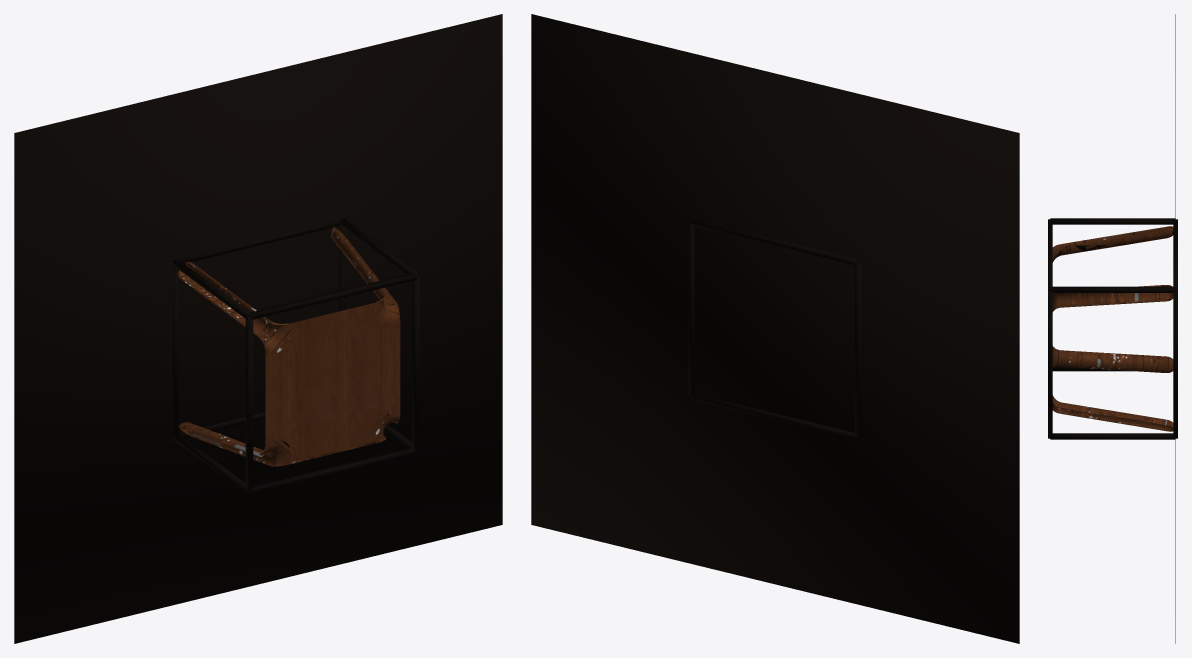
3 renders of one model, left to right at view 1: azimuth 30°, elevation 25°; view 2: azimuth 150°, elevation 25°; view 3: azimuth 270°, elevation 25°, orthographic. The views are drawn at different scales.
Bounding box in the file's own units: 2 × 2 × 0.548.
